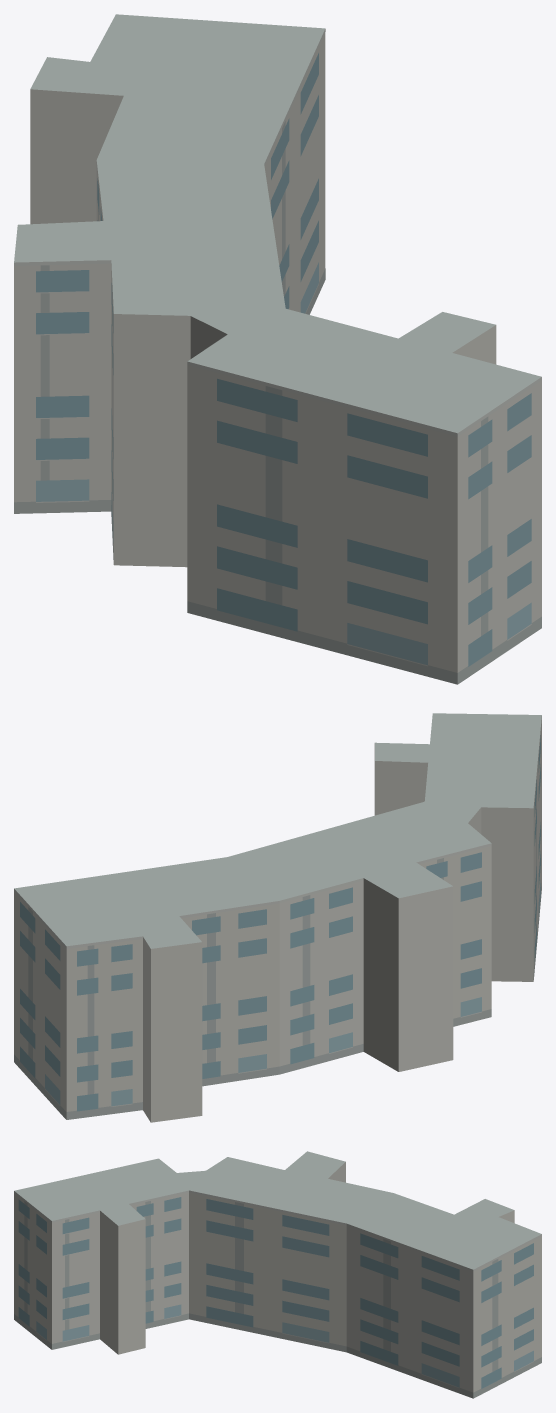
File: residential-af5678d6-2ee0-48a4-89a0-3168103b9c34.glb
3 renders of one model, top to bottom at view 1: azimuth 30°, elevation 25°; view 2: azimuth 150°, elevation 25°; view 3: azimuth 270°, elevation 25°, orthographic. The views are drawn at different scales.
Parts seen in each view (by area): view 1: residential-af5678d6-2ee0-48a4-89a0-3168103b9c34.tmp; view 2: residential-af5678d6-2ee0-48a4-89a0-3168103b9c34.tmp; view 3: residential-af5678d6-2ee0-48a4-89a0-3168103b9c34.tmp.
Boxes of the visible parts, x1,y1,x2,y2 form: residential-af5678d6-2ee0-48a4-89a0-3168103b9c34.tmp: [14, 14, 541, 684]; residential-af5678d6-2ee0-48a4-89a0-3168103b9c34.tmp: [14, 713, 541, 1122]; residential-af5678d6-2ee0-48a4-89a0-3168103b9c34.tmp: [14, 1151, 541, 1398].
Size of the model in its own units: 33.52 by 17 by 63.11.
